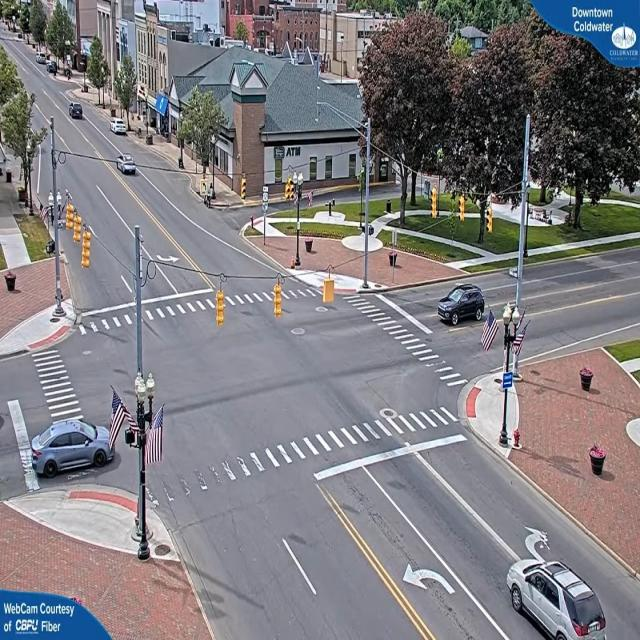car: (506, 559, 613, 640), (31, 418, 118, 478), (438, 282, 487, 327), (118, 156, 140, 176), (112, 121, 130, 138), (68, 104, 83, 121)
